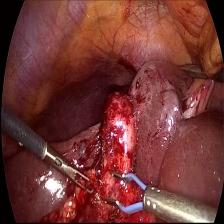Bipolar: (102, 152, 152, 223)
Grasper: (48, 133, 94, 206)
